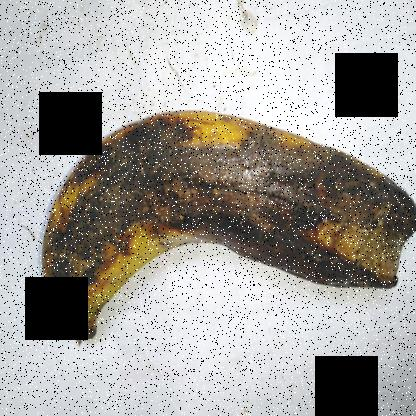rotten: (34, 107, 416, 338)
